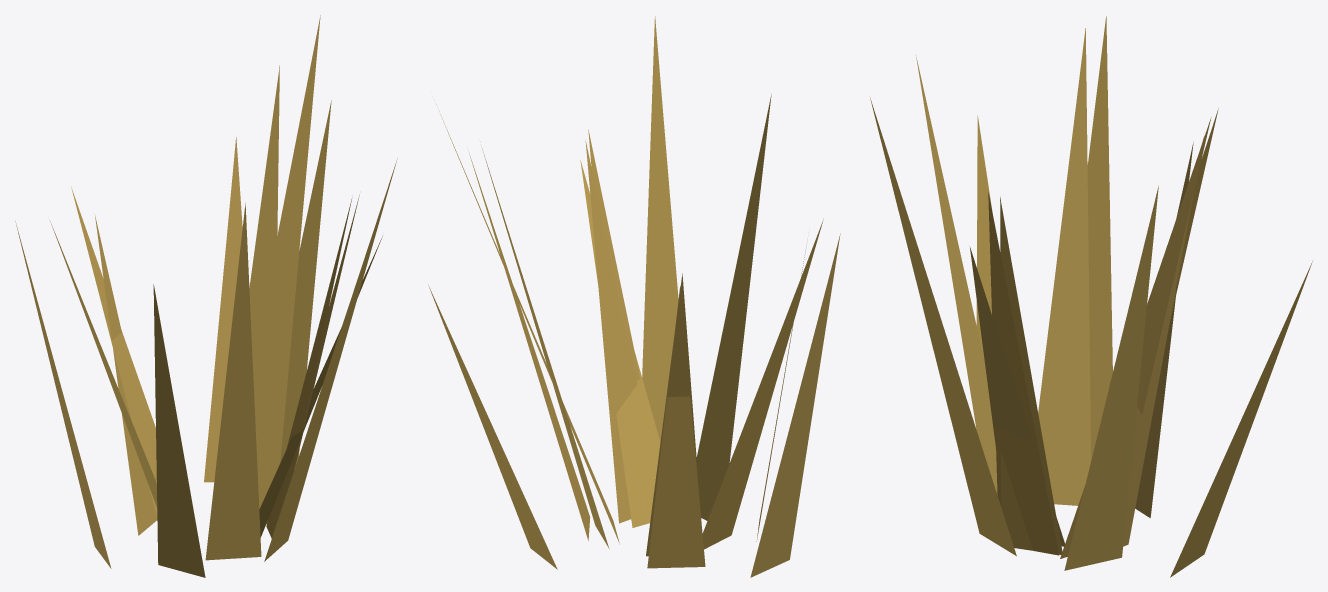
Rendered from grass_dry.glb.
3 views of the same model, side by side, from view 1: azimuth 30°, elevation 25°; view 2: azimuth 150°, elevation 25°; view 3: azimuth 270°, elevation 25° (orthographic). The views are drawn at different scales.
Parts seen in each view (by area): view 1: grass_dry; view 2: grass_dry; view 3: grass_dry.
Boxes of the visible parts, x1,y1,x2,y2 form: grass_dry: (15, 15, 397, 577); grass_dry: (428, 16, 840, 577); grass_dry: (870, 16, 1312, 577).
Bounding box in the file's own units: 0.5033 × 0.5973 × 0.4744.
